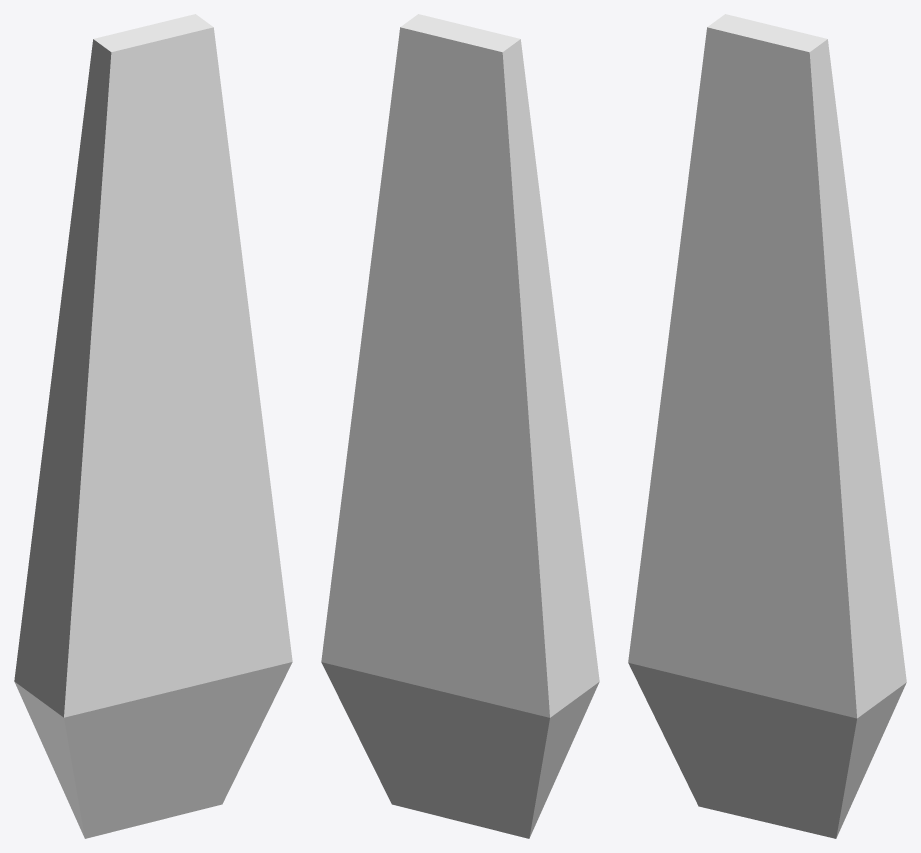
File: kpr_antenna_debris_03.glb
The picture shows the model from 3 angles, left to right: view 1: azimuth 30°, elevation 25°; view 2: azimuth 150°, elevation 25°; view 3: azimuth 330°, elevation 25°; orthographic projection.
Parts seen in each view (by area): view 1: kpr_antenna_debris_03; view 2: kpr_antenna_debris_03; view 3: kpr_antenna_debris_03.
Boxes of the visible parts, left/top/right/bottom form: kpr_antenna_debris_03: left=14, top=14, right=292, bottom=838; kpr_antenna_debris_03: left=321, top=14, right=599, bottom=838; kpr_antenna_debris_03: left=628, top=14, right=906, bottom=838.
Bounding box in the file's own units: 2.5 × 8.24 × 0.9392.
1 material, 1 textured.
